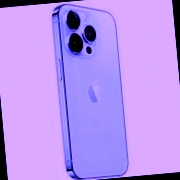iphone: (59, 2, 121, 179)
